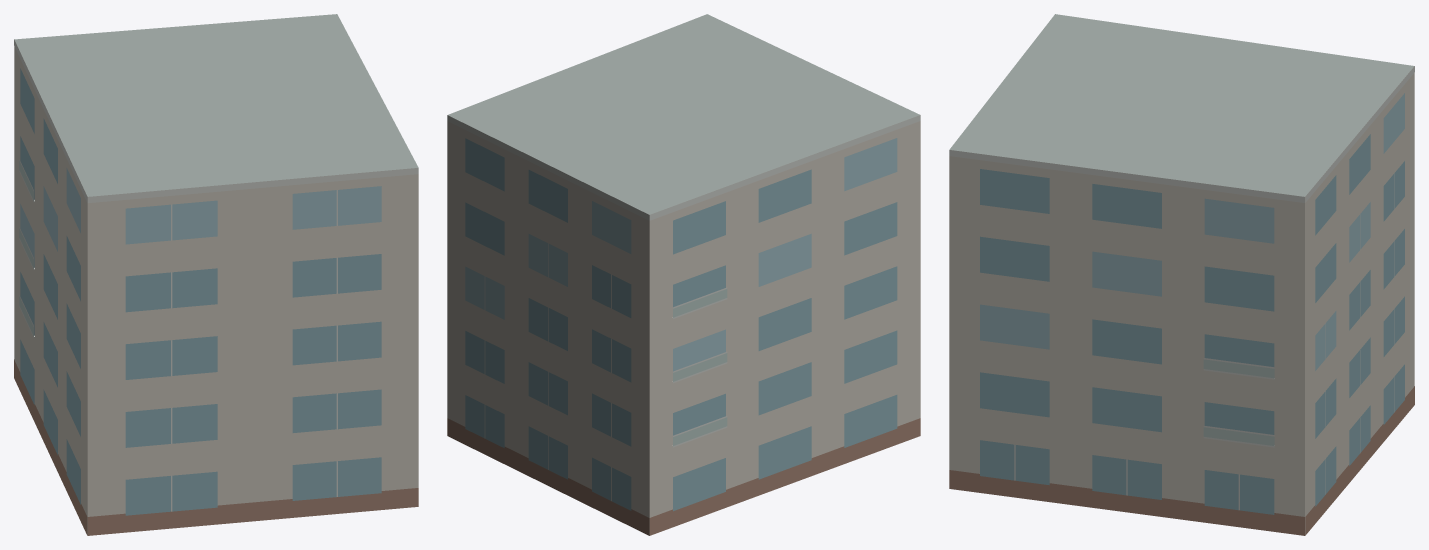
Rendered from survey-upis-32888511.glb.
The picture shows the model from 3 angles, left to right: view 1: azimuth 30°, elevation 25°; view 2: azimuth 150°, elevation 25°; view 3: azimuth 270°, elevation 25°; orthographic projection. The views are drawn at different scales.
Visible parts, largest first — view 1: survey-upis-32888511.tmp; view 2: survey-upis-32888511.tmp; view 3: survey-upis-32888511.tmp.
Part boxes in pixels (x1,y1,x2,y2): survey-upis-32888511.tmp: (14,14,418,535); survey-upis-32888511.tmp: (447,14,920,535); survey-upis-32888511.tmp: (949,14,1414,535).
Size of the model in its own units: 15.22 by 13.15 by 16.37.
